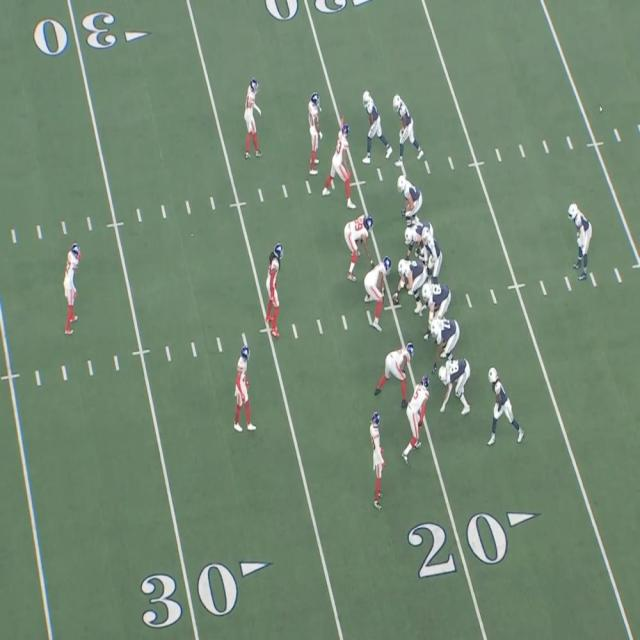center: (394, 256, 424, 307)
db: (372, 411, 387, 506), (234, 344, 249, 428), (64, 241, 78, 328), (308, 89, 322, 171), (248, 78, 262, 154)
lb: (408, 378, 433, 462), (267, 246, 284, 333)
qb: (423, 232, 444, 282)
skill: (489, 365, 523, 443), (438, 354, 472, 413), (364, 90, 389, 158), (394, 94, 419, 160), (569, 203, 591, 276)
